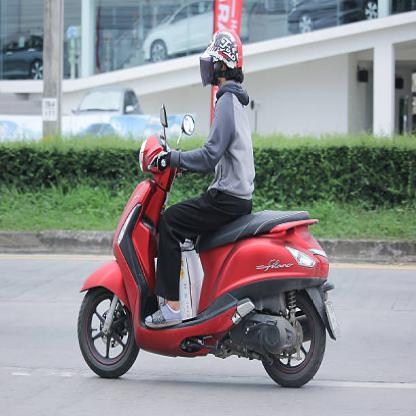Motorcycle: (64, 125, 339, 392)
